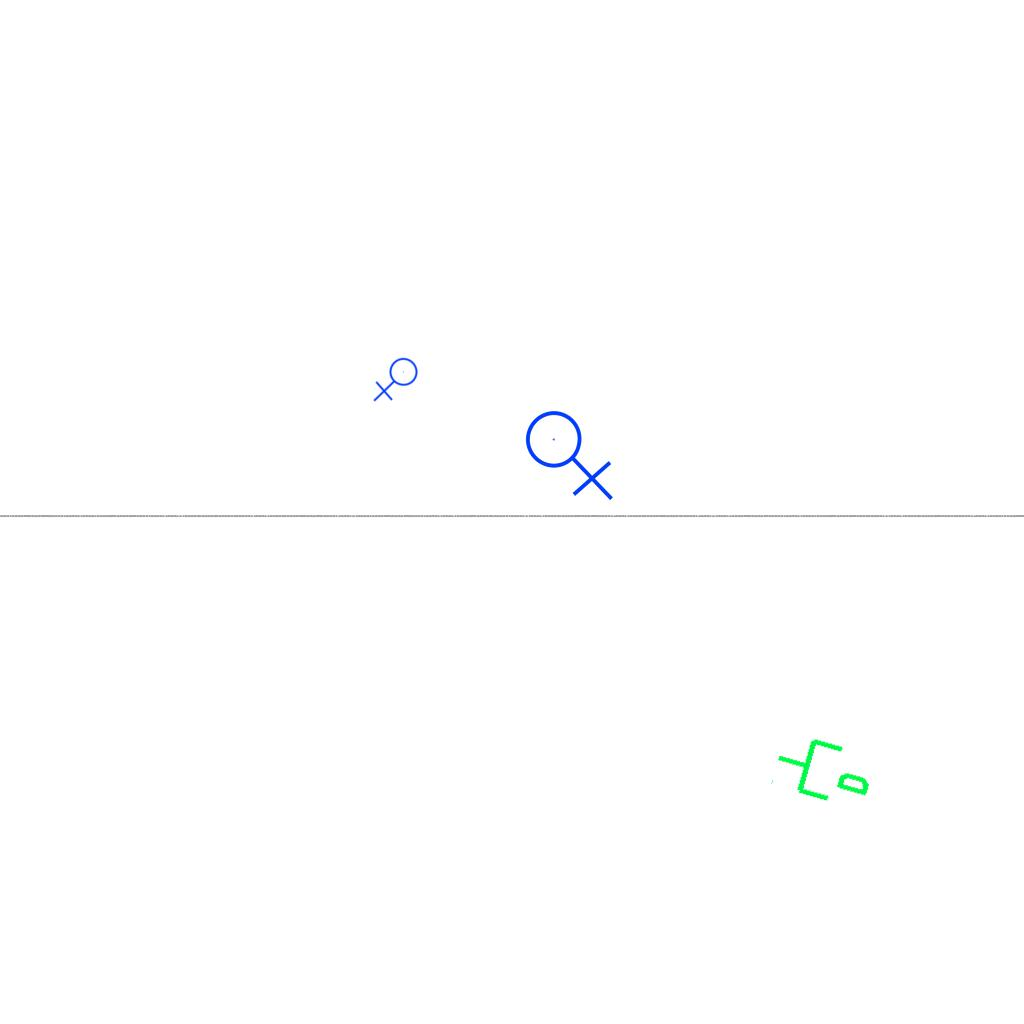Datenanschluss_einfach: (766, 722, 883, 816)
Elektroanschluss_allgemein_230V_Geraeteanschlussdose_230V: (524, 402, 618, 501), (373, 357, 422, 404)
